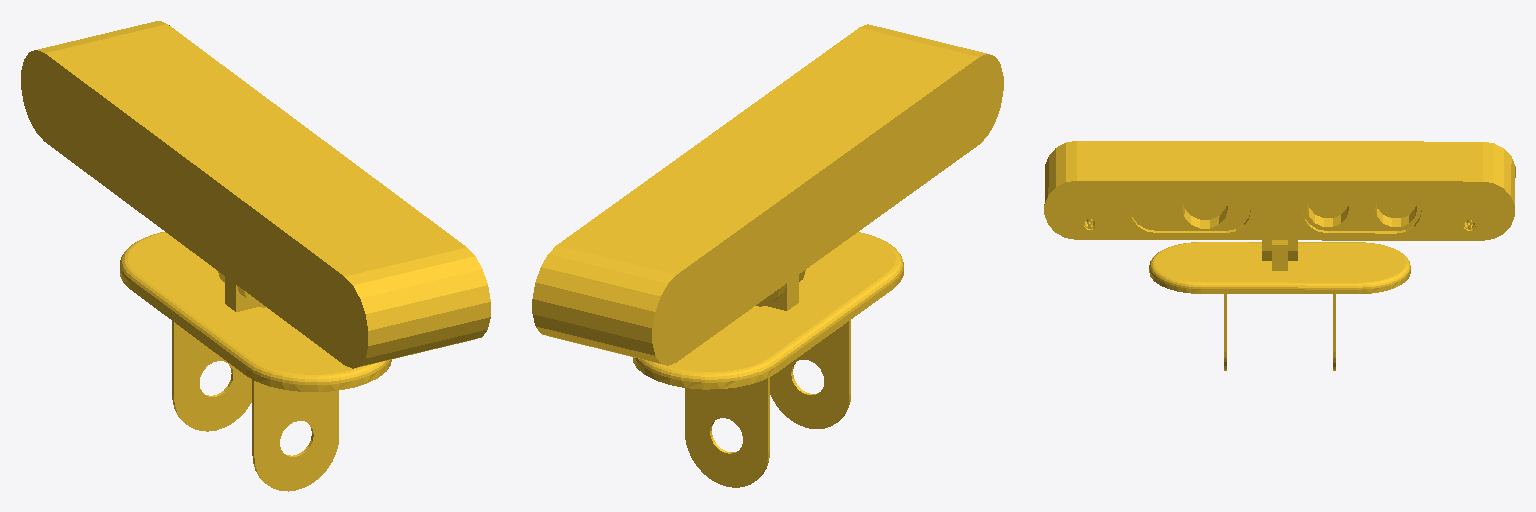
The robot description file, URDF, robot "camera_assembly":
<robot
  name="camera_assembly">
  <link name="base_footprint">
    <visual>
      <origin rpy="0 0 0" xyz="0 0 0"/>
      <geometry>
	<box size = "0.005 0.005 0.001"/>
	</geometry>
    </visual>
  </link>

  <joint name="base_joint" type="fixed">
    <origin rpy="0 0 0" xyz="0 0 0"/>
    <parent link="base_footprint"/>
    <child link="camera_link"/>
  </joint>
  

  <link
    name="camera_link">
    <inertial>
      <origin
        xyz="0.00104677755214932 0.0565354259412041 0.000706823006794352"
        rpy="0 0 0" />
      <mass
        value="0.218601103688772" />
      <inertia
        ixx="5.68306243830738E-05"
        ixy="-1.64334986592043E-07"
        ixz="3.17640997051293E-06"
        iyy="0.000544517856899513"
        iyz="5.49918514517201E-07"
        izz="0.000556932366470026" />
    </inertial>
    <visual>
      <origin
        xyz="0 0 -0.06"
        rpy="1.57 0 -1.57" />
      <geometry>
        <mesh
          filename="package://camera_assembly/meshes/camera.STL" />
      </geometry>
      <material
        name="">
        <color
          rgba="5 0.819607843137255 0.233333333333333 1" />
      </material>
    </visual>
    <collision>
      <origin
        xyz="0 0 -0.06"
        rpy="1.57 0 -1.57" />
      <geometry>
        <mesh
          filename="package://camera_assembly/meshes/camera.STL" />
      </geometry>
    </collision>
  </link>

  <joint name="camera_depth_joint" type="fixed">
          <origin xyz="0 0.025 0" rpy="0 0 0" />
          <parent link="camera_link" />
          <child link="camera_depth_frame" />
   </joint>

   <link name="camera_depth_frame">
      <inertial>
         <mass value="0.000001" />
         <origin xyz="0 0 0" />
         <inertia ixx="0.0001" ixy="0.0" ixz="0.0"
            iyy="0.0001" iyz="0.0"
            izz="0.0001" />
       </inertial>
    </link>

      <joint name="camera_depth_optical_joint" type="fixed">
         <origin xyz="0 0 0" rpy="-1.57 0 -1.57" />
         <parent link="camera_depth_frame" />
         <child link="camera_depth_optical_frame" />
      </joint>

      <link name="camera_depth_optical_frame">
         <inertial>
            <mass value="0.000001" />
            <origin xyz="0 0 0" />
            <inertia ixx="0.0001" ixy="0.0" ixz="0.0"
               iyy="0.0001" iyz="0.0"
               izz="0.0001" />
         </inertial>
      </link>

      <joint name="camera_rgb_joint" type="fixed">
         <origin xyz="0 -0.025 0" rpy="0 0 0" />
         <parent link="camera_link" />
         <child link="camera_rgb_frame" />
      </joint>

      <link name="camera_rgb_frame">
         <inertial>
         <mass value="0.000001" />
         <origin xyz="0 0 0" />
         <inertia ixx="0.0001" ixy="0.0" ixz="0.0"
            iyy="0.0001" iyz="0.0"
            izz="0.0001" />
         </inertial>
      </link>

      <joint name="camera_rgb_optical_joint" type="fixed">
         <origin xyz="0 0 0" rpy="-1.57 0 -1.57" />
         <parent link="camera_rgb_frame" />
         <child link="camera_rgb_optical_frame" />
      </joint>

      <link name="camera_rgb_optical_frame">
         <inertial>
            <mass value="0.000001" />
            <origin xyz="0 0 0" />
            <inertia ixx="0.0001" ixy="0.0" ixz="0.0"
               iyy="0.0001" iyz="0.0"
               izz="0.0001" />
         </inertial>
      </link>
</robot>

--- What the picture shows (computed from the rendered views, not written in the file) ---
Views: 3 orthographic renders of the robot side by side, from view 1: azimuth 30°, elevation 25°; view 2: azimuth 150°, elevation 25°; view 3: azimuth 270°, elevation 25°.
Model camera_assembly with 6 links and 5 joints (5 fixed), rooted at base_footprint, posed all joints at 0.
Visible links, largest first — view 1: camera_link; view 2: camera_link; view 3: camera_link.
Link boxes in pixels (left/top/right/bottom): camera_link: left=21, top=21, right=490, bottom=491; camera_link: left=532, top=24, right=1003, bottom=487; camera_link: left=1044, top=141, right=1515, bottom=370.
Size in the robot's own frame: 0.0404 by 0.1799 by 0.0873 metres.
Meshes: 1 distinct files referenced, 1 mesh visuals loaded (1 binary STL).